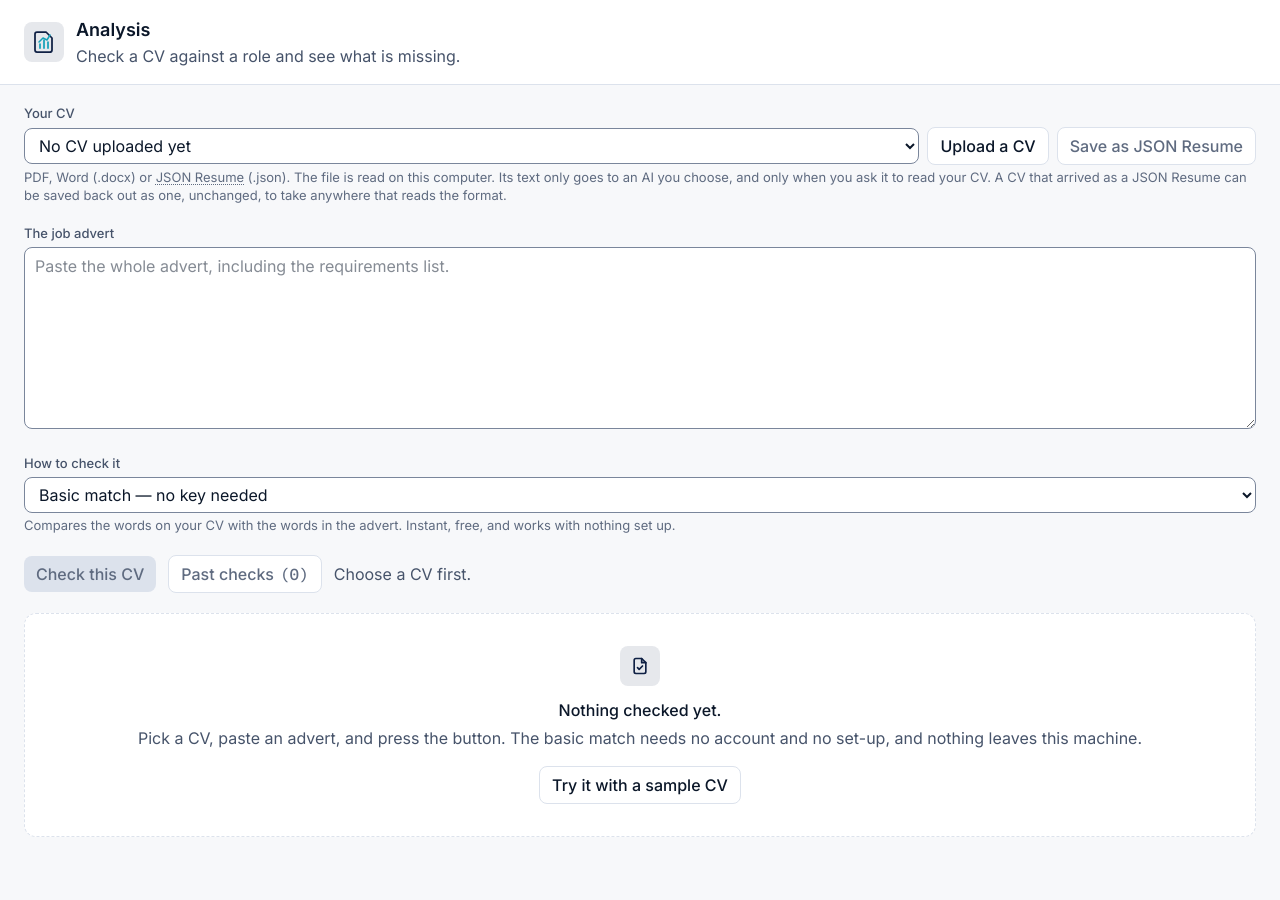
Test case: try it with a sample (L-277) › says how many requirements the sample score rests on
The image size is (1280, 900).
Check: the dropdown with test id "analysis-provider" is shown, box x1=24 y1=477 x2=1256 y2=513
Click the button with test id "analysis-try-sample": (640, 785) x1=539 y1=766 x2=741 y2=804
(page scrolled)
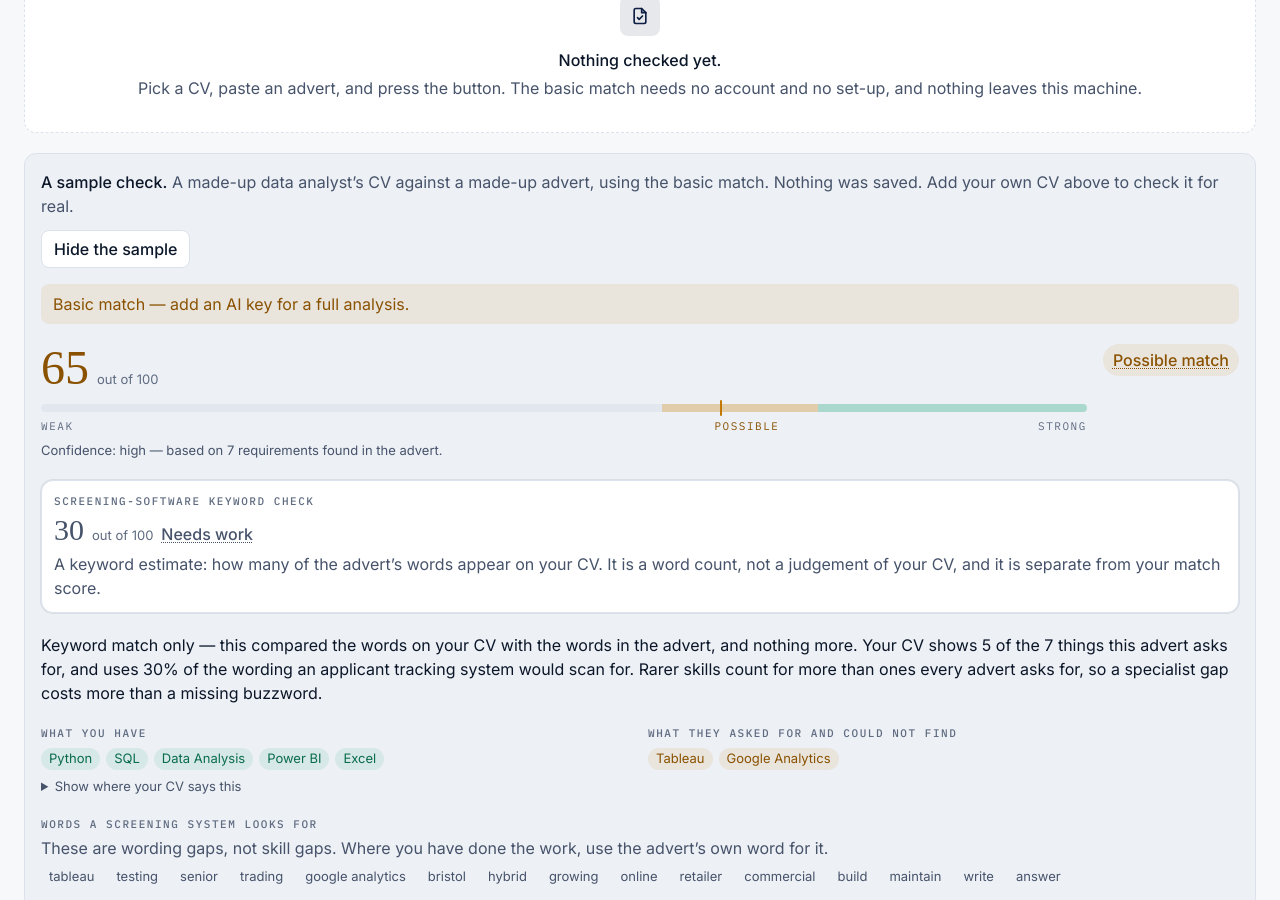
Check: the text with test id "analysis-confidence" reads "Confidence: high — based on 7 requirements found in the advert.", box x1=41 y1=442 x2=442 y2=458
